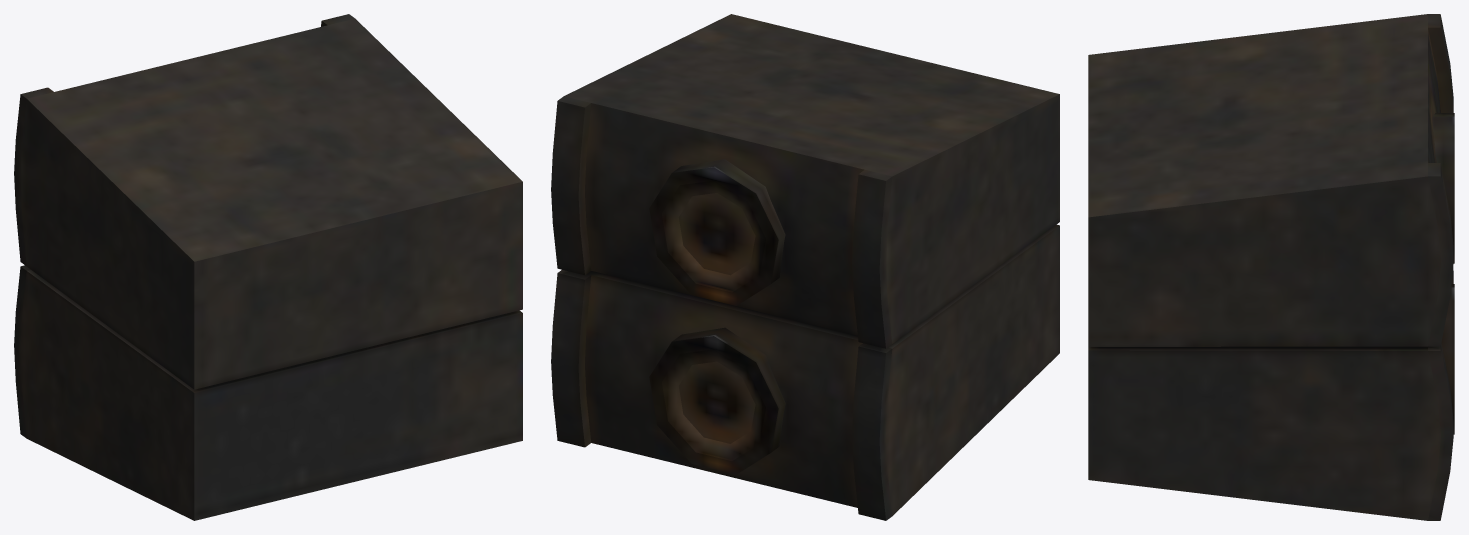
File: SpeakerSmall.FBX
The picture shows the model from 3 angles, left to right: view 1: azimuth 30°, elevation 25°; view 2: azimuth 150°, elevation 25°; view 3: azimuth 270°, elevation 25°; orthographic projection.
Parts seen in each view (by area): view 1: SpeakerSmall; view 2: SpeakerSmall; view 3: SpeakerSmall.
Boxes of the visible parts, left/top/right/bottom form: SpeakerSmall: left=14, top=14, right=522, bottom=520; SpeakerSmall: left=551, top=14, right=1059, bottom=520; SpeakerSmall: left=1088, top=14, right=1454, bottom=520.
Bounding box in the file's own units: 32.65 × 32.29 × 31.11.
